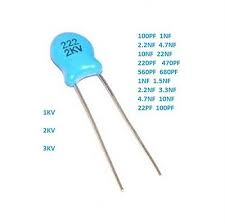ceramic capacitor: (37, 18, 130, 109)
